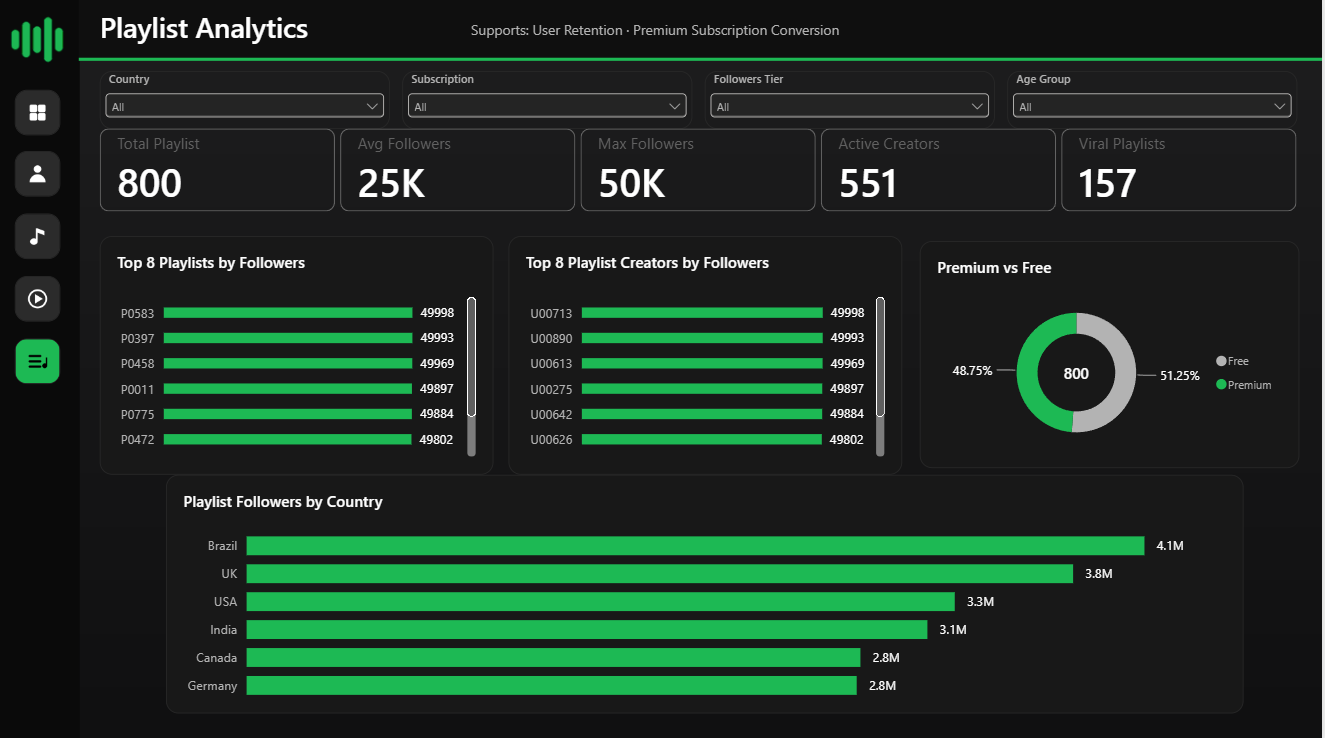

Layout of this report page (visuals, bound fields, positions):
{"tool":"powerbi","page":{"name":"Playlist Analytics","canvas":[1280,720],"ordinal":4},"visuals":[{"type":"textbox","box":[100.1,12.1,388.5,42.2],"z":0},{"type":"textbox","box":[458.4,22.9,587.5,21.7],"z":1000},{"type":"actionButton","box":[18,150,44,44],"z":2000},{"type":"actionButton","box":[18.1,210,44,44],"z":3000},{"type":"actionButton","box":[18,270,44,44],"z":4000},{"type":"actionButton","box":[18,330,44,44],"z":5000},{"type":"actionButton","box":[18,90,44,44],"z":6000},{"type":"slicer","title":"Country","fields":{"Values":["Users.Country"]},"box":[100,72,280,56],"z":7000},{"type":"slicer","title":"Subscription","fields":{"Values":["Users.Subscription"]},"box":[392,72,280,56],"z":8000},{"type":"slicer","title":"Age Group","fields":{"Values":["Users.Age"]},"box":[976,72,280,56],"z":9000},{"type":"slicer","title":"Country","fields":{"Values":["Playlists.Followers Tier"]},"box":[684,72,280,56],"z":10000},{"type":"cardVisual","fields":{"Data":["Count(Playlists.Playlist_ID)","Artists.Avg Followers","Max(Playlists.Followers)","Playlists.Active Creators","Playlists.Viral Playlists"]},"box":[100.1,127.9,1158.2,80],"z":11000},{"type":"clusteredBarChart","title":"Top 8 Playlists by Followers","fields":{"Category":["Playlists.Playlist_ID"],"Y":["Sum(Playlists.Followers)"]},"box":[100.1,232,380,230],"z":12000},{"type":"clusteredBarChart","title":"Playlist Followers by Country","fields":{"Category":["Users.Country"],"Y":["Sum(Playlists.Followers)"]},"box":[164.1,462.1,1040,230.4],"z":13000},{"type":"clusteredBarChart","title":"Top 8 Playlist Creators by Followers","fields":{"Category":["Playlists.User_ID"],"Y":["Sum(Playlists.Followers)"]},"box":[494.6,231.6,380,230],"z":14000},{"type":"donutChart","title":"Premium vs Free","fields":{"Category":["Users.Subscription"],"Y":["Playlists.Total Playlist"]},"box":[891.6,236.5,366.8,219.6],"z":15000},{"type":"image","box":[9.6,12.3,60.4,60],"z":16000}]}

Visuals, with their boxes on the page's 1280x720 design canvas (x1, y1, x2, y2). These are canvas units, not pixel positions in the 1325x738 screenshot, which may show the page scaled, cropped or inside an application window:
textbox: locate(100, 12, 489, 54)
textbox: locate(458, 23, 1046, 45)
actionButton: locate(18, 150, 62, 194)
actionButton: locate(18, 210, 62, 254)
actionButton: locate(18, 270, 62, 314)
actionButton: locate(18, 330, 62, 374)
actionButton: locate(18, 90, 62, 134)
"Country" slicer: locate(100, 72, 380, 128)
"Subscription" slicer: locate(392, 72, 672, 128)
"Age Group" slicer: locate(976, 72, 1256, 128)
"Country" slicer: locate(684, 72, 964, 128)
cardVisual - Count(Playlists.Playlist_ID) x Artists.Avg Followers: locate(100, 128, 1258, 208)
"Top 8 Playlists by Followers" clusteredBarChart: locate(100, 232, 480, 462)
"Playlist Followers by Country" clusteredBarChart: locate(164, 462, 1204, 692)
"Top 8 Playlist Creators by Followers" clusteredBarChart: locate(495, 232, 875, 462)
"Premium vs Free" donutChart: locate(892, 236, 1258, 456)
image: locate(10, 12, 70, 72)
